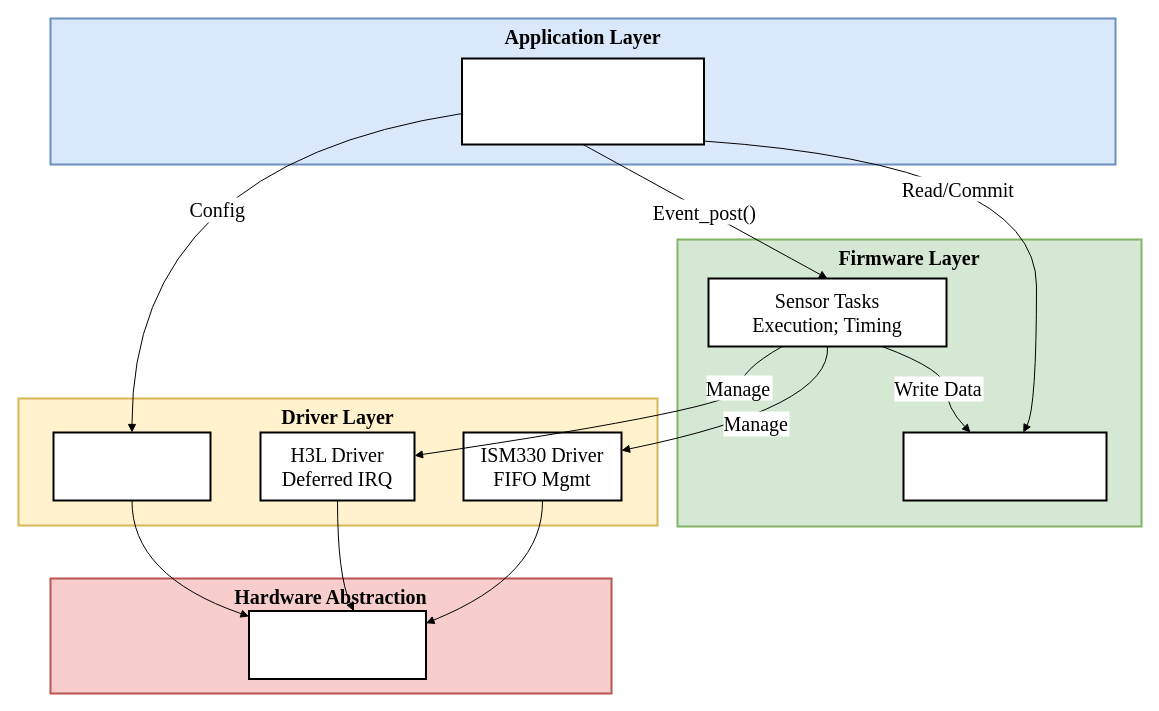
The diagram is 1159 pixels wide and 711 high, and some of its shapes have lost their labels. The shapes that lost their labels are listed below. From the top down, each one's centre as x and y in pixels, then its label:
At pixel 582 101: "Simple Peripheral Task Control Plane; BLE Logic".
At pixel 131 466: "ADC Driver SCIF Wrapper".
At pixel 1004 466: "Unified Ring Buffers Data Plane".
At pixel 337 645: "Sensor Platform I2C Mutex, GPIO".
